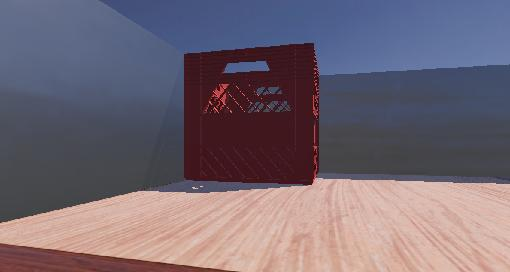PlasticCrate: (173, 39, 327, 191)
